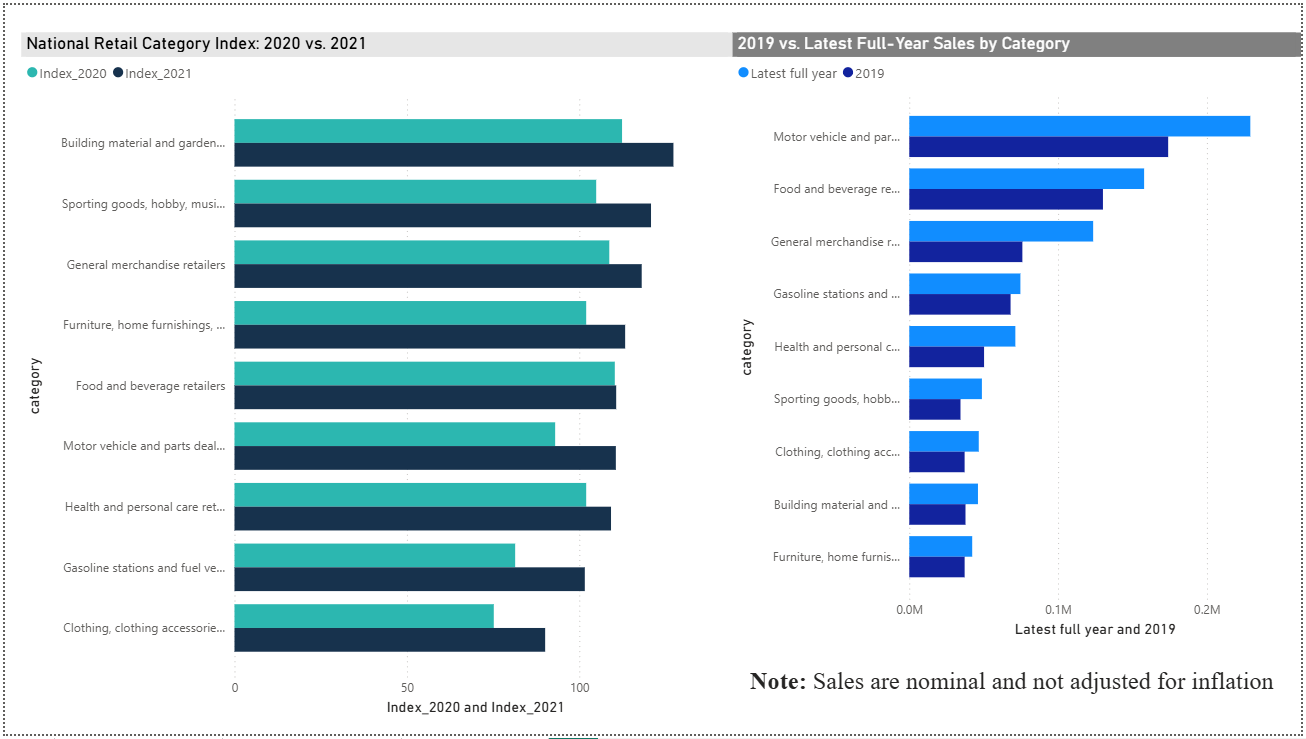

The dashboard page shown, as its layout file describes it:
{"tool":"powerbi","page":{"name":"COVID Impact","canvas":[1280,720],"ordinal":3},"visuals":[{"type":"clusteredBarChart","title":"National Retail Category Index: 2020 vs. 2021","fields":{"Category":["q06_covid_impact_by_category.category"],"Y":["Avg(q06_covid_impact_by_category.index_2020)","Avg(q06_covid_impact_by_category.index_2021)"]},"box":[16.5,27.4,702.6,679.2],"z":0},{"type":"clusteredBarChart","title":"2019 vs. Latest Full-Year Sales by Category","fields":{"Category":["q03_category_growth.category"],"Y":["Avg(q03_category_growth.latest_sales)","Avg(q03_category_growth.base_sales)"]},"box":[719,27.4,561.2,602.4],"z":1000},{"type":"textbox","box":[731.4,649.1,531,71.4],"z":2000}]}

Visuals, with their boxes in screenshot pixels (x1, y1, x2, y2), scaled from the page's 1280x720 canvas onto the 1306x739 screenshot:
"National Retail Category Index: 2020 vs. 2021" clusteredBarChart: 17 28 734 725
"2019 vs. Latest Full-Year Sales by Category" clusteredBarChart: 734 28 1305 646
textbox: 746 666 1288 738
